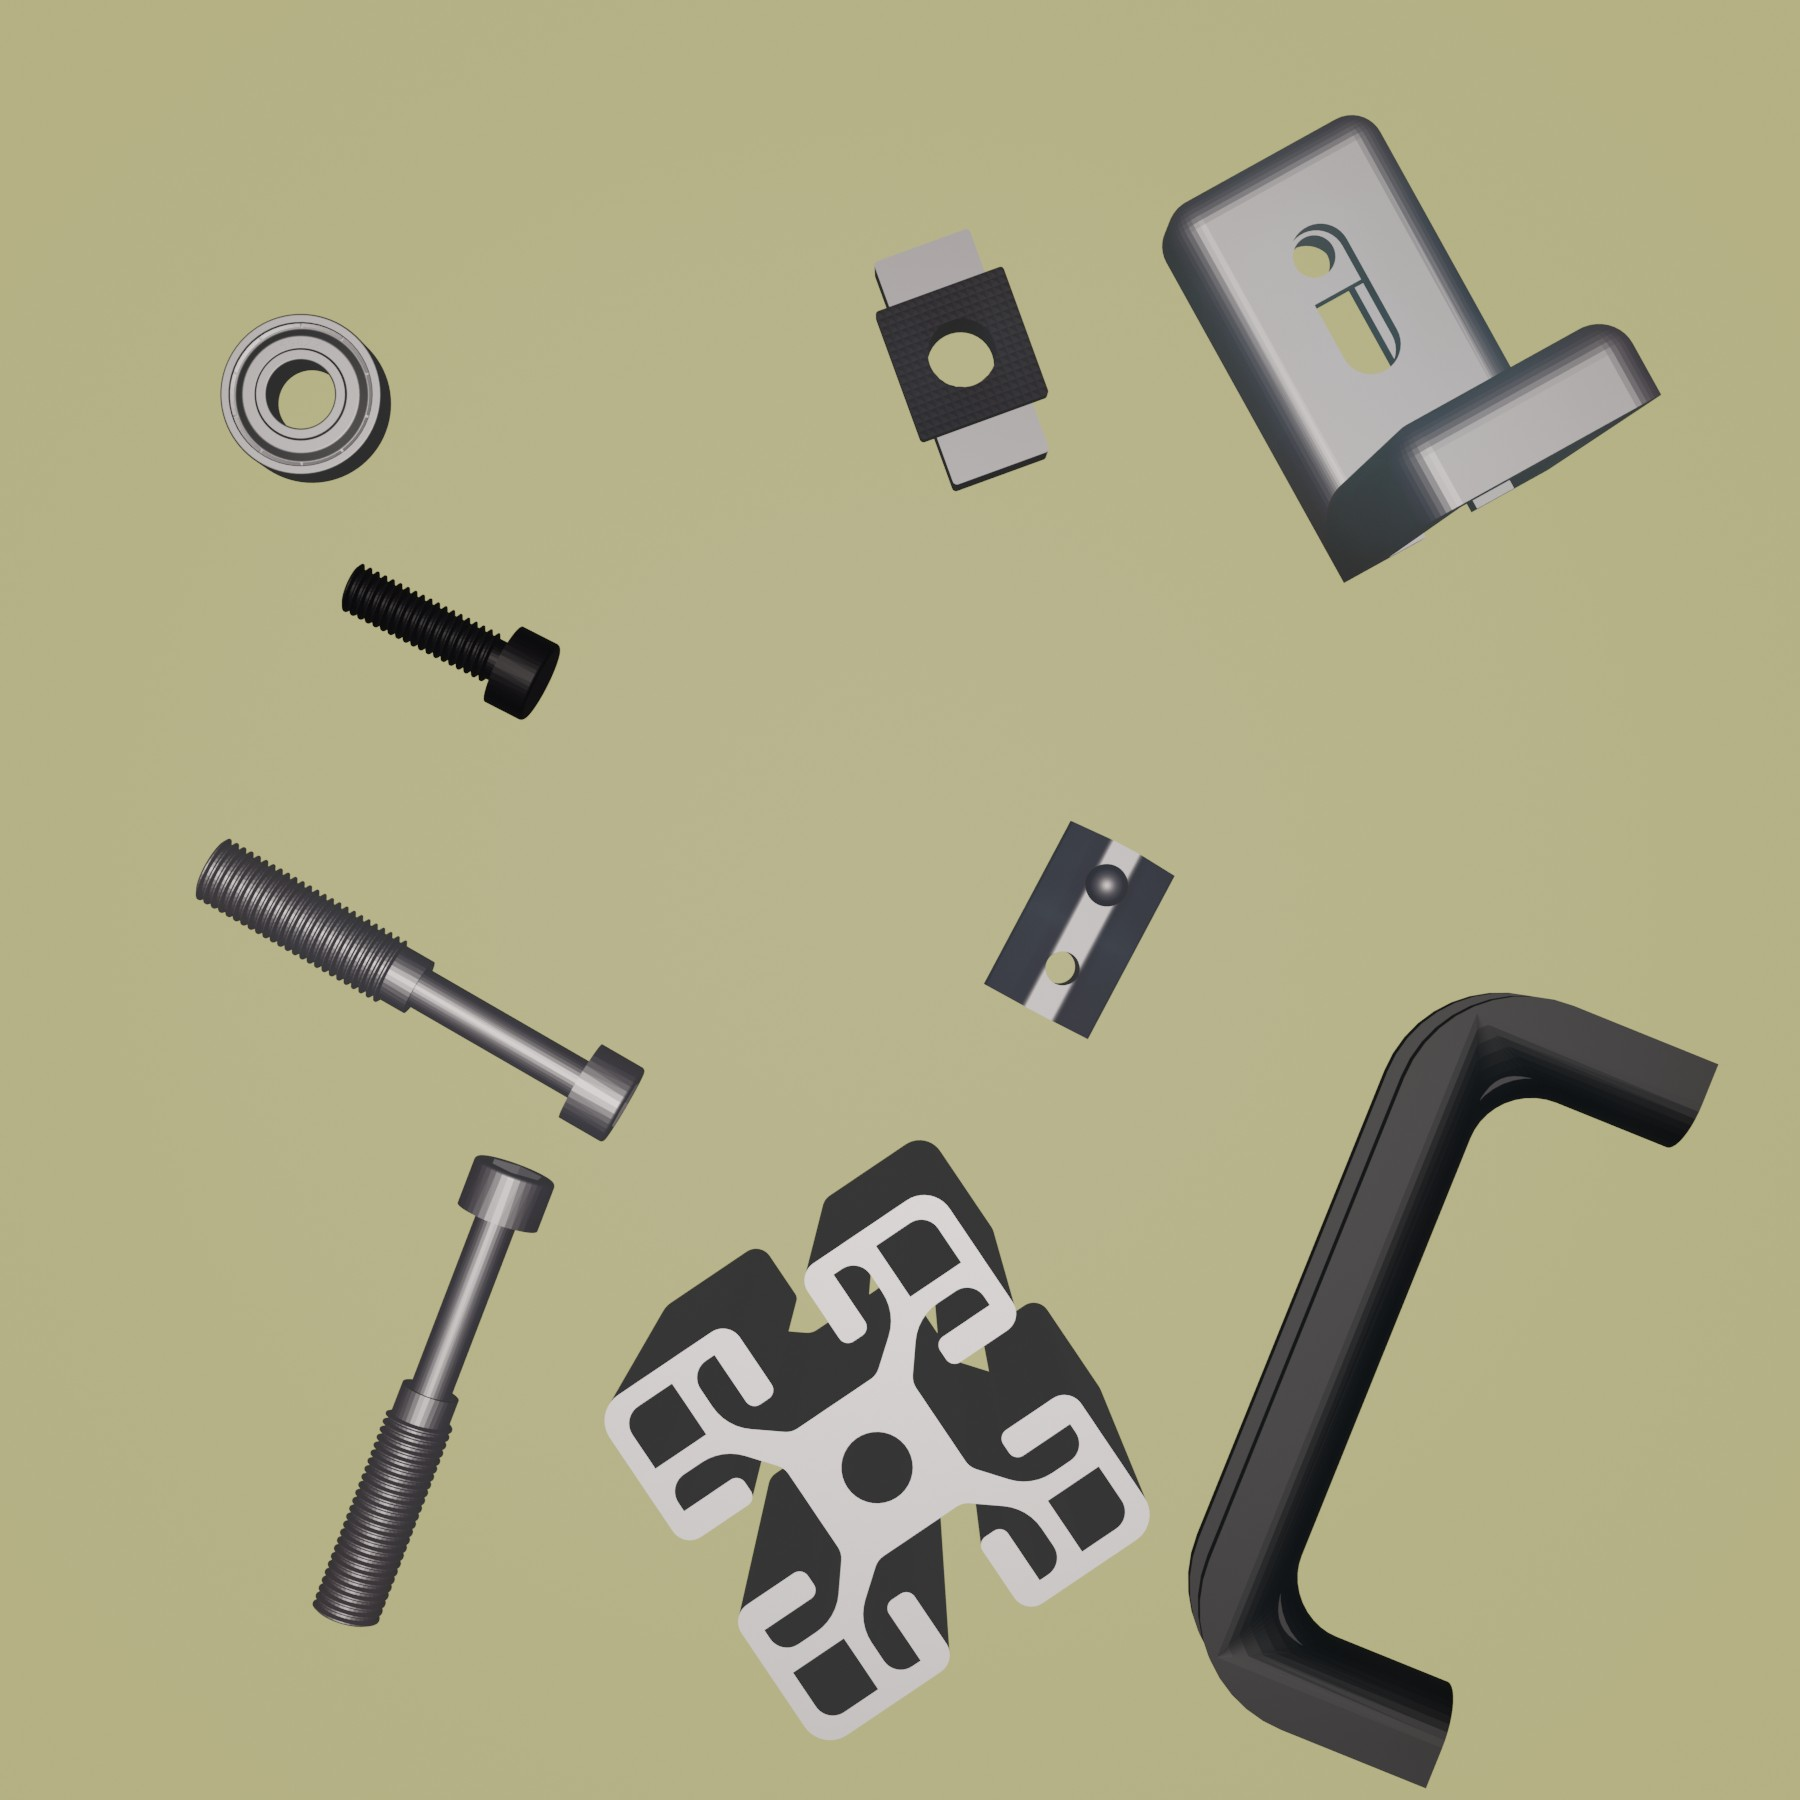Aluminium Extension: (603, 1139, 1154, 1742)
Ball Bearing: (219, 312, 392, 485)
Multiwinkel: (1160, 115, 1662, 584)
Pull Handle: (1187, 989, 1721, 1792)
Shoulder Socket Head Cap Screw: (191, 839, 648, 1146), (312, 1151, 555, 1629)
Socket Head Cap Screw: (338, 562, 562, 724)
T Nut Square: (870, 227, 1050, 493)
T Spring Nut: (982, 818, 1175, 1038)
